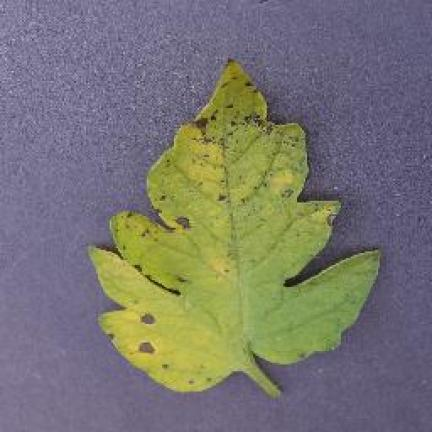disease: (89, 61, 378, 395)
leaf: (221, 81, 230, 88)
